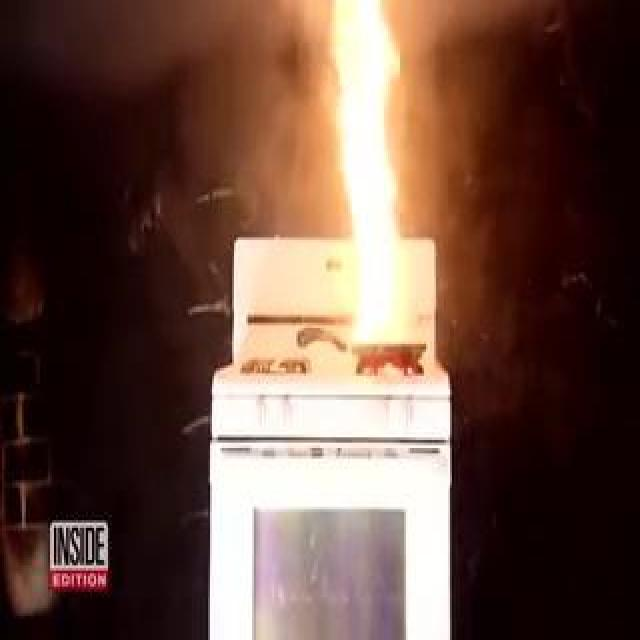Fire: (316, 3, 436, 357)
